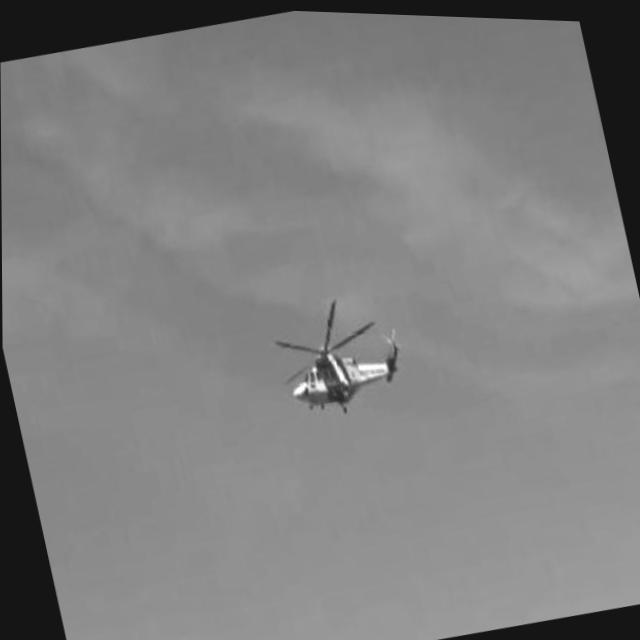helikopter: (265, 280, 411, 421)
